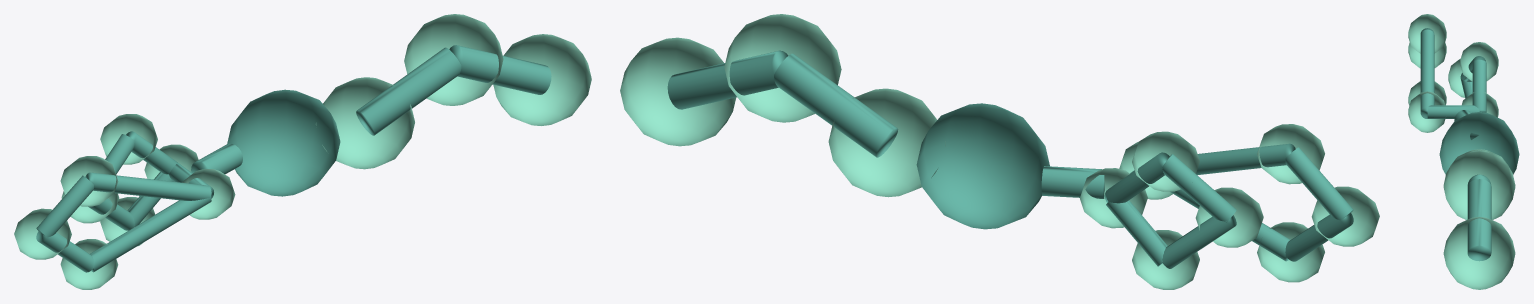
The model's file is atp.glb.
The picture shows the model from 3 angles, left to right: view 1: azimuth 30°, elevation 25°; view 2: azimuth 150°, elevation 25°; view 3: azimuth 270°, elevation 25°; orthographic projection. The views are drawn at different scales.
Visible parts, largest first — view 1: AdenineBond (×9), Ribose, Phosphate_3, Phosphate_1, Phosphate_2, PhosphateBridge_1, PhosphateBridge_2, AdenineNode_07, AdenineNode_02, AdenineNode_05, AdenineNode_06, AdenineNode_08 (+4 smaller); view 2: Ribose, AdenineBond (×8), Phosphate_3, Phosphate_1, Phosphate_2, PhosphateBridge_1, PhosphateBridge_2, AdenineNode_07, AdenineNode_03, AdenineNode_02, AdenineNode_04, AdenineNode_06 (+4 smaller); view 3: Phosphate_3, Phosphate_2, Ribose, AdenineBond (×5), PhosphateBridge_2, AdenineNode_06, AdenineNode_02, AdenineNode_05, AdenineNode_03, AdenineNode_07, AdenineNode_01, AdenineNode_08 (+3 smaller).
Boxes of the visible parts, x1,y1,x2,y2 form: AdenineBond (×9): [36, 131, 213, 272]; Ribose: [227, 89, 340, 196]; Phosphate_3: [493, 34, 591, 125]; Phosphate_1: [315, 77, 414, 169]; Phosphate_2: [404, 14, 503, 105]; PhosphateBridge_1: [356, 47, 461, 135]; PhosphateBridge_2: [449, 45, 551, 94]; AdenineNode_07: [14, 208, 71, 259]; AdenineNode_02: [100, 114, 157, 164]; AdenineNode_05: [182, 169, 235, 219]; AdenineNode_06: [60, 156, 118, 206]; AdenineNode_08: [60, 239, 118, 289]; Ribose: [916, 103, 1049, 229]; AdenineBond (×8): [1106, 143, 1353, 268]; Phosphate_3: [620, 37, 736, 146]; Phosphate_1: [828, 88, 945, 197]; Phosphate_2: [724, 14, 841, 122]; PhosphateBridge_1: [774, 53, 898, 157]; PhosphateBridge_2: [667, 50, 788, 109]; AdenineNode_07: [1311, 186, 1379, 246]; AdenineNode_03: [1195, 187, 1263, 247]; AdenineNode_02: [1132, 131, 1199, 191]; AdenineNode_04: [1132, 230, 1199, 289]; AdenineNode_06: [1257, 124, 1324, 184]; Phosphate_3: [1443, 216, 1515, 289]; Phosphate_2: [1443, 150, 1515, 219]; Ribose: [1439, 112, 1519, 174]; AdenineBond (×5): [1420, 29, 1486, 118]; PhosphateBridge_2: [1467, 179, 1491, 261]; AdenineNode_06: [1408, 14, 1446, 53]; AdenineNode_02: [1460, 42, 1498, 81]; AdenineNode_05: [1408, 91, 1445, 132]; AdenineNode_03: [1448, 58, 1464, 97]; AdenineNode_07: [1408, 42, 1446, 68]; AdenineNode_01: [1462, 92, 1498, 117]; AdenineNode_08: [1408, 81, 1446, 105].
Size of the model in its own units: 0.273 by 0.064 by 0.0555.
